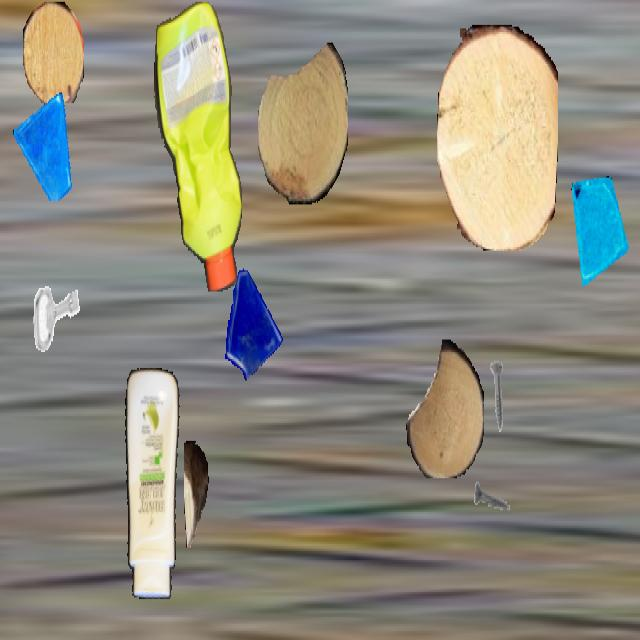glass: (219, 263, 285, 381), (568, 176, 632, 290), (13, 89, 75, 199)
metal: (25, 263, 85, 370), (477, 359, 519, 434), (473, 459, 515, 533)
plastic: (153, 2, 243, 290), (118, 368, 182, 599)
wood: (437, 25, 557, 249), (258, 41, 348, 204), (406, 340, 484, 478), (23, 2, 83, 105), (184, 441, 208, 547)
